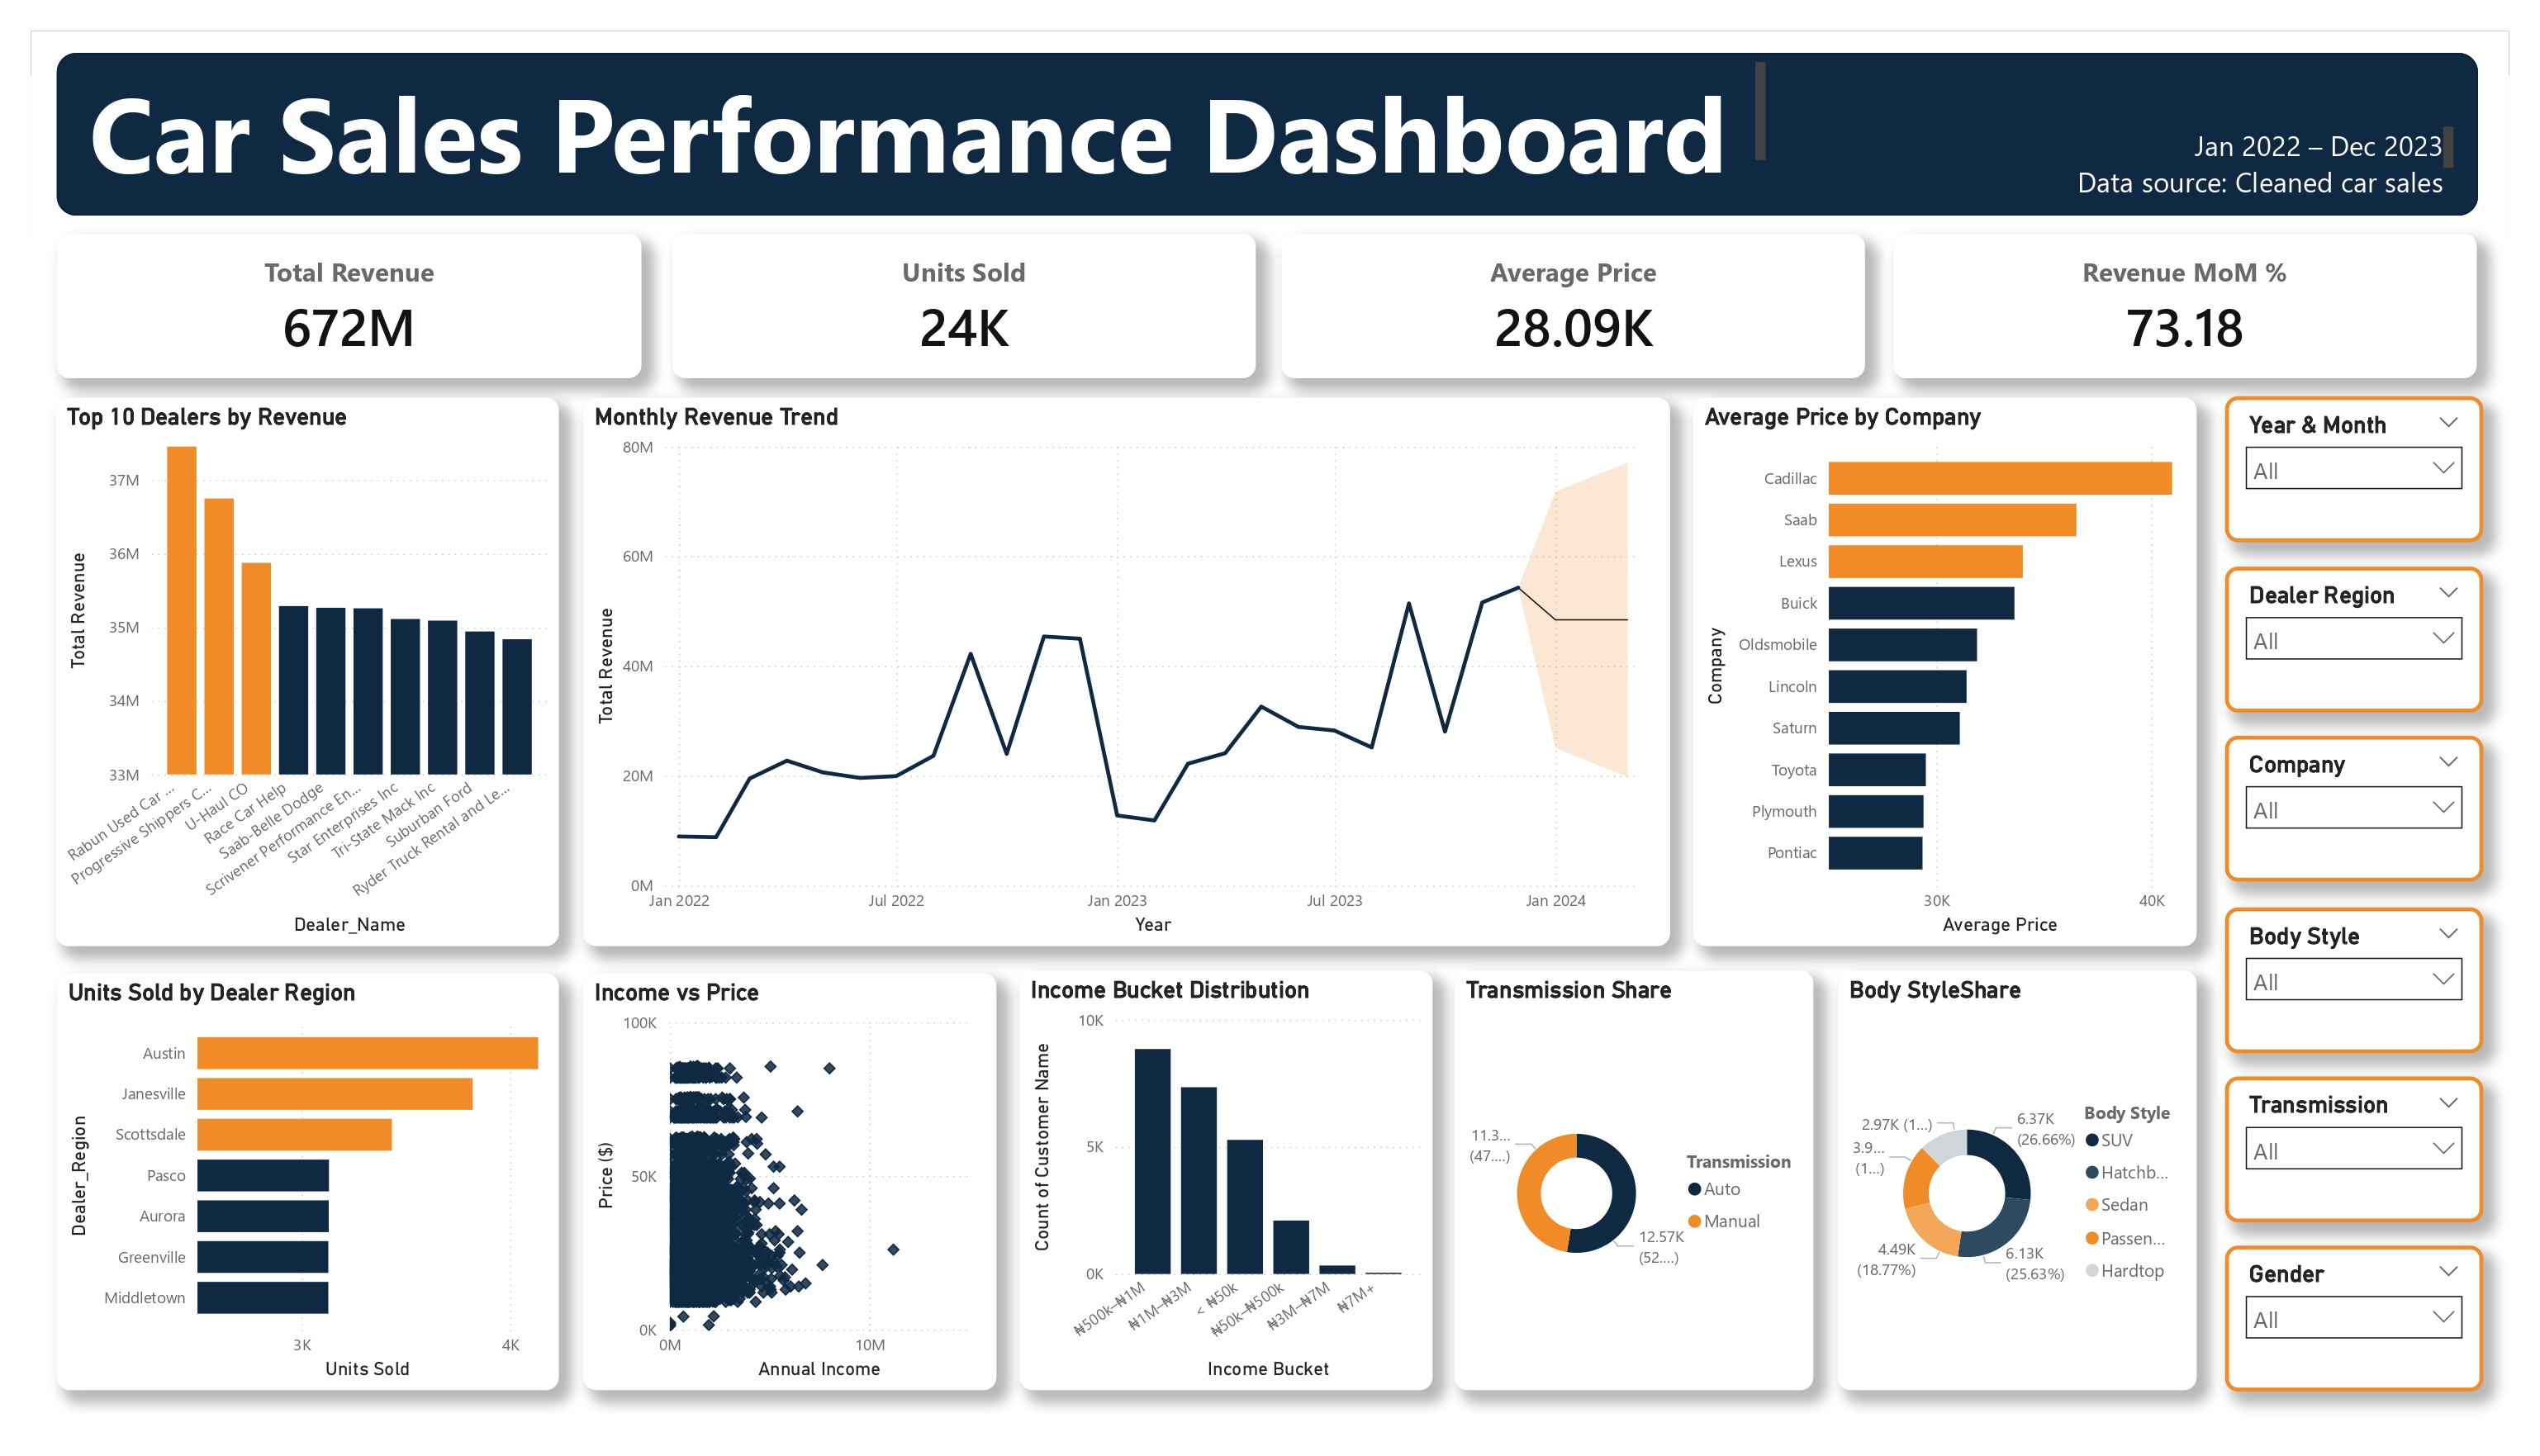

What the dashboard file says about the page in this screenshot:
{"tool":"powerbi","page":{"name":"Page 1: Car Sales Performance Dashboard","canvas":[1920,1080],"ordinal":0},"visuals":[{"type":"shape","box":[19.7,17.1,1876.3,126.3],"z":0},{"type":"textbox","box":[40,19,1308.8,100],"z":1000},{"type":"textbox","box":[1537,69,345.4,62],"z":2000},{"type":"cardVisual","title":"Total Revenue","fields":{"Data":["Measurestable.Total Revenue"]},"box":[20.3,157.5,453,111.8],"z":3000},{"type":"cardVisual","fields":{"Data":["Measurestable.Units Sold"]},"box":[497,157.1,452.4,111.9],"z":4000},{"type":"cardVisual","fields":{"Data":["Measurestable.Average Price"]},"box":[969,157.1,452.4,111.9],"z":5000},{"type":"cardVisual","fields":{"Data":["Measurestable.Revenue MoM"]},"box":[1442.9,157.1,452.4,111.9],"z":6000},{"type":"slicer","fields":{"Values":["DateTable.Year","DateTable.Month"]},"box":[1699.7,282.8,200,113],"z":7000},{"type":"slicer","fields":{"Values":["car_sales_clean.Dealer_Region"]},"box":[1700,415.4,200,112.8],"z":8000},{"type":"slicer","fields":{"Values":["car_sales_clean.Company"]},"box":[1700,546.2,200,112.8],"z":9000},{"type":"slicer","fields":{"Values":["car_sales_clean.Body Style"]},"box":[1700,679.5,200,112.8],"z":10000},{"type":"slicer","fields":{"Values":["car_sales_clean.Transmission"]},"box":[1700,810.3,200,112.8],"z":11000},{"type":"slicer","fields":{"Values":["car_sales_clean.Gender"]},"box":[1700,941,200,112.8],"z":12000},{"type":"clusteredColumnChart","title":"Top 10 Dealers by Revenue","fields":{"Category":["car_sales_clean.Dealer_Name"],"Y":["Measurestable.Total Revenue"]},"box":[18.8,284.4,390.6,425],"z":13000},{"type":"clusteredBarChart","title":"Units Sold by Dealer Region","fields":{"Category":["car_sales_clean.Dealer_Region"],"Y":["Measurestable.Units Sold"]},"box":[20.5,729.5,388.6,323.9],"z":14000},{"type":"lineChart","title":"Monthly Revenue Trend","fields":{"Category":["DateTable.Date.Variation.Date Hierarchy.Year","DateTable.Date.Variation.Date Hierarchy.Quarter","DateTable.Date.Variation.Date Hierarchy.Month"],"Y":["Measurestable.Total Revenue"]},"box":[428,284.3,842.4,425],"z":15000},{"type":"scatterChart","title":"Income vs Price","fields":{"X":["car_sales_clean.Annual Income"],"Y":["car_sales_clean.Price ($)"]},"box":[428.4,729.5,320,323.9],"z":16000},{"type":"clusteredColumnChart","title":"Income Bucket Distribution","fields":{"Category":["car_sales_clean.Income Bucket"],"Y":["CountNonNull(car_sales_clean.Customer Name)"]},"box":[765.6,728.1,320,325],"z":17000},{"type":"clusteredBarChart","title":"Average Price by Company","fields":{"Category":["car_sales_clean.Company"],"Y":["Measurestable.Average Price"]},"box":[1287.5,284.4,390.6,425],"z":18000},{"type":"donutChart","title":"Transmission Share","fields":{"Category":["car_sales_clean.Transmission"],"Y":["CountNonNull(car_sales_clean.Car_id)"]},"box":[1103.1,728.1,278.1,325],"z":19000},{"type":"donutChart","title":"Body StyleShare","fields":{"Y":["CountNonNull(car_sales_clean.Car_id)"],"Category":["car_sales_clean.Body Style"]},"box":[1400,728.1,278.1,325],"z":20000}]}

Visuals, with their boxes on the page's 1920x1080 design canvas (x1, y1, x2, y2). These are canvas units, not pixel positions in the 2540x1456 screenshot, which may show the page scaled, cropped or inside an application window:
shape: Rect(20, 17, 1896, 143)
textbox: Rect(40, 19, 1349, 119)
textbox: Rect(1537, 69, 1882, 131)
"Total Revenue" cardVisual: Rect(20, 158, 473, 269)
cardVisual - Measurestable.Units Sold: Rect(497, 157, 949, 269)
cardVisual - Measurestable.Average Price: Rect(969, 157, 1421, 269)
cardVisual - Measurestable.Revenue MoM: Rect(1443, 157, 1895, 269)
slicer - DateTable.Year x DateTable.Month: Rect(1700, 283, 1900, 396)
slicer - car_sales_clean.Dealer_Region: Rect(1700, 415, 1900, 528)
slicer - car_sales_clean.Company: Rect(1700, 546, 1900, 659)
slicer - car_sales_clean.Body Style: Rect(1700, 680, 1900, 792)
slicer - car_sales_clean.Transmission: Rect(1700, 810, 1900, 923)
slicer - car_sales_clean.Gender: Rect(1700, 941, 1900, 1054)
"Top 10 Dealers by Revenue" clusteredColumnChart: Rect(19, 284, 409, 709)
"Units Sold by Dealer Region" clusteredBarChart: Rect(20, 730, 409, 1053)
"Monthly Revenue Trend" lineChart: Rect(428, 284, 1270, 709)
"Income vs Price" scatterChart: Rect(428, 730, 748, 1053)
"Income Bucket Distribution" clusteredColumnChart: Rect(766, 728, 1086, 1053)
"Average Price by Company" clusteredBarChart: Rect(1288, 284, 1678, 709)
"Transmission Share" donutChart: Rect(1103, 728, 1381, 1053)
"Body StyleShare" donutChart: Rect(1400, 728, 1678, 1053)
